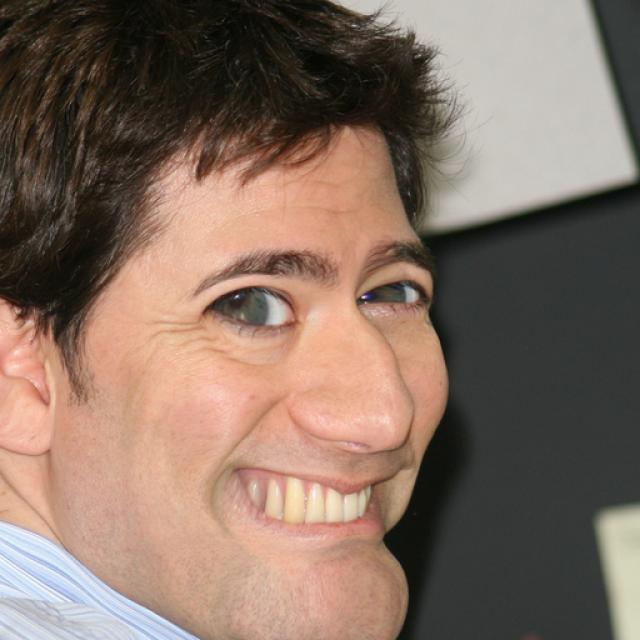happy: (82, 117, 449, 640)
